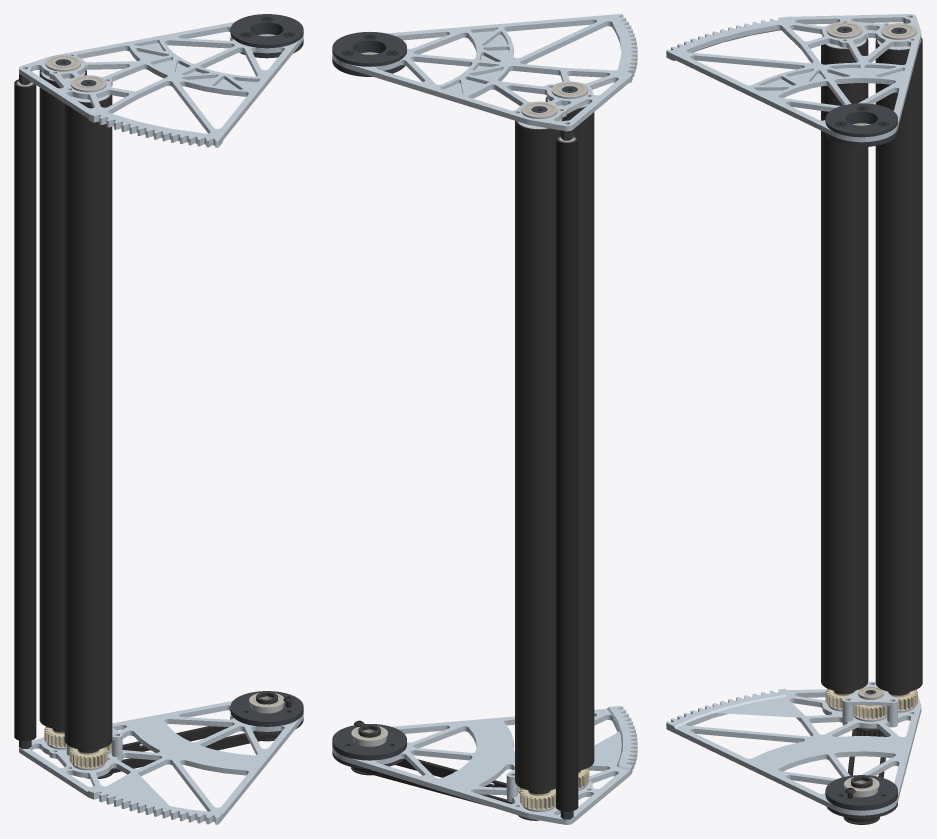
The picture shows the model from 3 angles, left to right: view 1: azimuth 30°, elevation 25°; view 2: azimuth 150°, elevation 25°; view 3: azimuth 270°, elevation 25°; orthographic projection. The views are drawn at different scales.
Visible parts, largest first — view 1: Hood silicone (×2), 1678-26c-1615, 1678-26c-1605, 1678-26c-1604, 1678-26c-1632 (×2), 85T 5M 9mm Wide Belt, 1678-26c-1631, 24t Aluminum Spur Gear (20 DP, 1/2" Hex Bore); view 2: Hood silicone (×2), 1678-26c-1615, 1678-26c-1605, 1678-26c-1604, 1678-26c-1632 (×2), 85T 5M 9mm Wide Belt, 1678-26c-1631, 24t Aluminum Spur Gear (20 DP, 1/2" Hex Bore); view 3: Hood silicone (×2), 1678-26c-1605, 1678-26c-1604, 1678-26c-1632 (×2), 1678-26c-1631, 1678-26c-1616.
Part boxes in pixels (x1=…): Hood silicone (×2): x1=39, y1=70, x2=112, y2=750; 1678-26c-1615: x1=14, y1=79, x2=36, y2=741; 1678-26c-1605: x1=19, y1=22, x2=303, y2=147; 1678-26c-1604: x1=19, y1=701, x2=303, y2=824; 1678-26c-1632 (×2): x1=230, y1=14, x2=303, y2=735; 85T 5M 9mm Wide Belt: x1=105, y1=726, x2=279, y2=774; 1678-26c-1631: x1=230, y1=691, x2=303, y2=726; 24t Aluminum Spur Gear (20 DP, 1/2" Hex Bore): x1=69, y1=747, x2=107, y2=768; Hood silicone (×2): x1=515, y1=96, x2=594, y2=791; 1678-26c-1615: x1=556, y1=135, x2=578, y2=811; 1678-26c-1605: x1=332, y1=14, x2=637, y2=131; 1678-26c-1604: x1=332, y1=706, x2=637, y2=824; 1678-26c-1632 (×2): x1=332, y1=31, x2=406, y2=768; 85T 5M 9mm Wide Belt: x1=353, y1=759, x2=513, y2=805; 1678-26c-1631: x1=332, y1=724, x2=406, y2=760; 24t Aluminum Spur Gear (20 DP, 1/2" Hex Bore): x1=520, y1=788, x2=555, y2=809; Hood silicone (×2): x1=821, y1=37, x2=922, y2=692; 1678-26c-1605: x1=666, y1=14, x2=921, y2=142; 1678-26c-1604: x1=666, y1=688, x2=921, y2=815; 1678-26c-1632 (×2): x1=825, y1=103, x2=897, y2=818; 1678-26c-1631: x1=825, y1=775, x2=897, y2=810; 1678-26c-1616: x1=842, y1=681, x2=897, y2=706.
Bounding box in the file's own units: 0.259 × 0.6747 × 0.2242.
